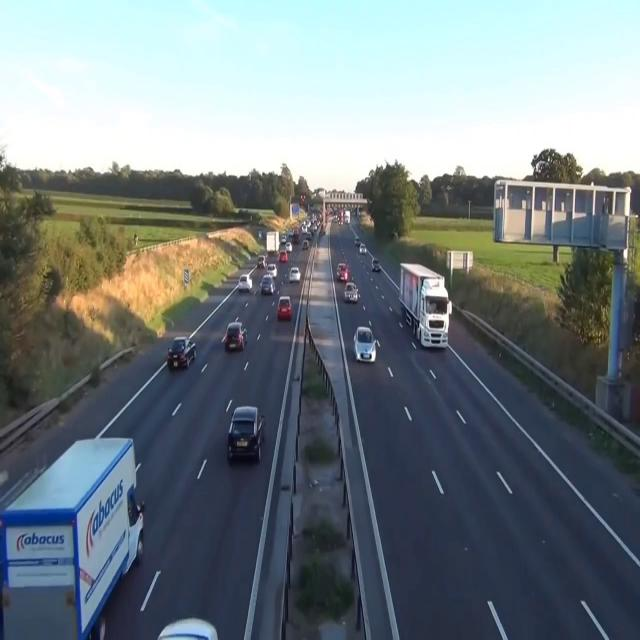belum terisi: (0, 398, 153, 640), (398, 253, 452, 366), (224, 393, 268, 474), (163, 329, 200, 379), (221, 314, 249, 357), (352, 326, 376, 375), (342, 271, 362, 311), (277, 288, 294, 328), (258, 272, 278, 304), (237, 271, 253, 293)
